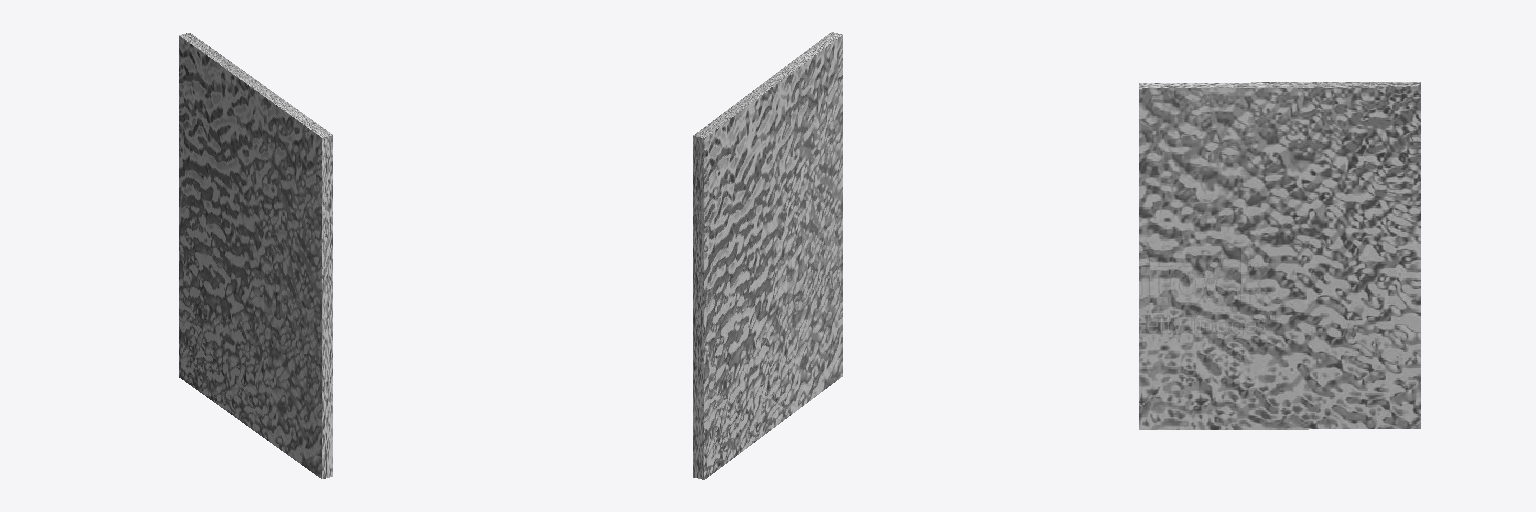
The picture shows the model from 3 angles: view 1: azimuth 30°, elevation 25°; view 2: azimuth 150°, elevation 25°; view 3: azimuth 270°, elevation 25°; orthographic projection.
Visible parts, largest first — view 1: Puerta:pCube17; view 2: Puerta:pCube17; view 3: Puerta:pCube17.
Boxes of the visible parts, x1=… form: Puerta:pCube17: x1=179, y1=33, x2=332, y2=478; Puerta:pCube17: x1=693, y1=32, x2=842, y2=479; Puerta:pCube17: x1=1139, y1=82, x2=1420, y2=429.
Size of the model in its own units: 0.1737 by 4.13 by 3.09.
Materials: 1 (1 with a texture image).